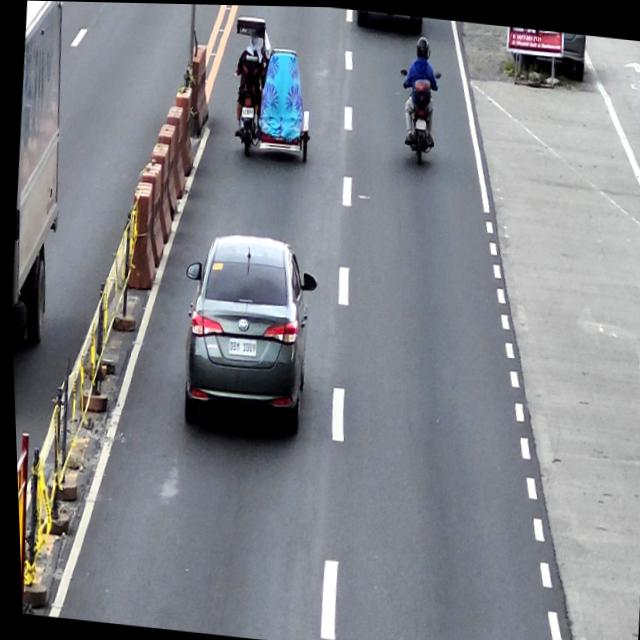Car: (170, 226, 323, 438)
License-Plate: (224, 335, 256, 356), (413, 115, 427, 128), (240, 105, 253, 116)
Motorcycle: (393, 64, 444, 165)
Tricycle: (225, 14, 319, 162)
